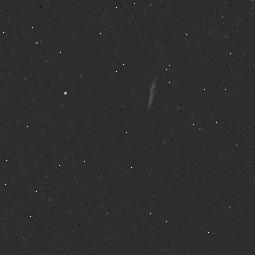proba_3_ocs: (110, 67, 176, 114)
